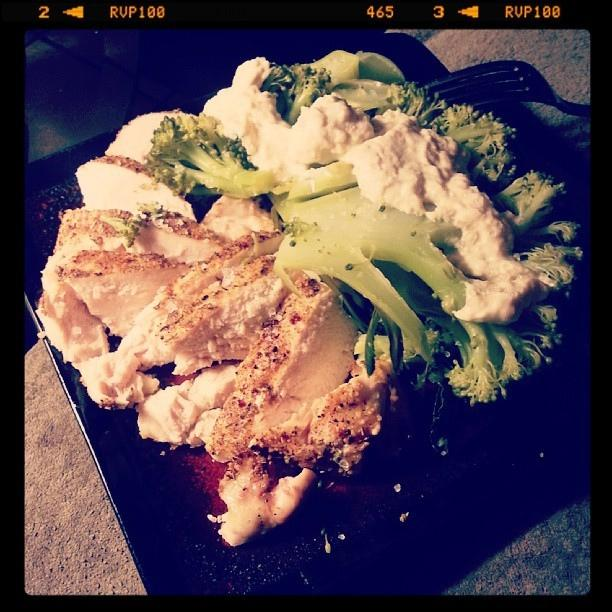broccoli: (275, 186, 552, 408), (144, 112, 276, 198), (426, 102, 516, 187), (489, 167, 571, 235), (510, 236, 582, 292), (376, 80, 448, 127), (288, 161, 358, 203), (286, 63, 332, 125)
